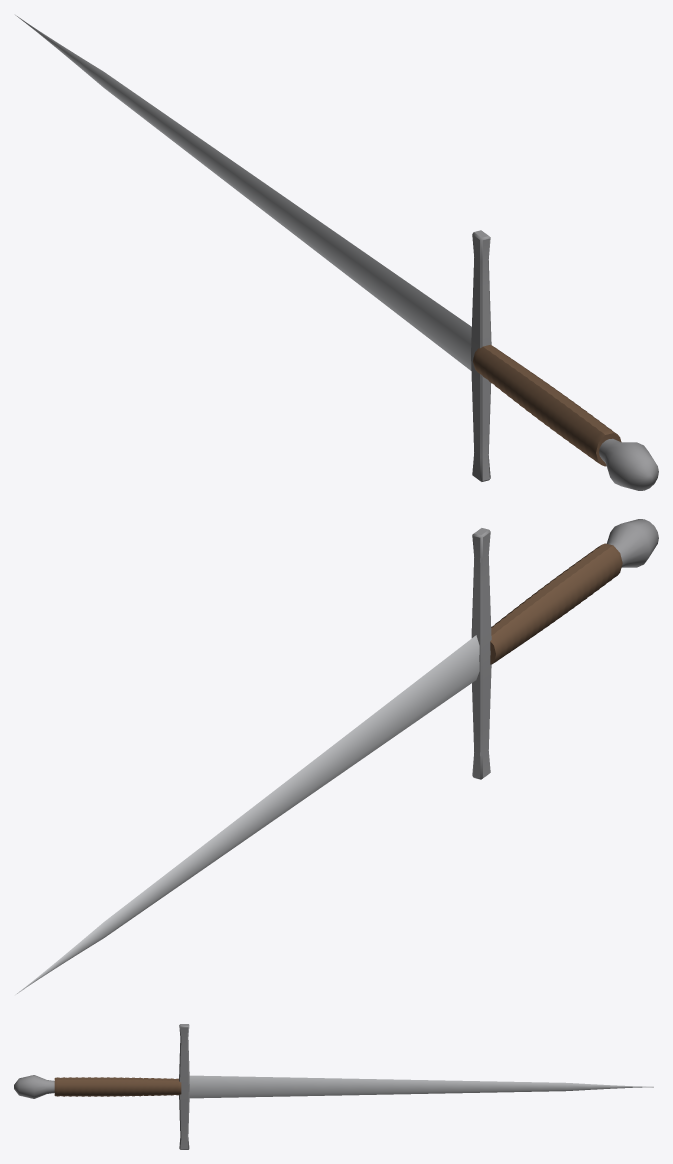
The model's file is longsword.glb.
3 renders of one model, top to bottom at view 1: azimuth 30°, elevation 25°; view 2: azimuth 150°, elevation 25°; view 3: azimuth 270°, elevation 25°, orthographic. The views are drawn at different scales.
Parts seen in each view (by area): view 1: longsword; view 2: longsword; view 3: longsword.
Part boxes in pixels (bbox=[...]): longsword: bbox=[15, 15, 658, 490]; longsword: bbox=[15, 519, 658, 994]; longsword: bbox=[14, 1024, 653, 1149].
Size of the model in its own units: 0.048 by 0.27 by 1.27.
